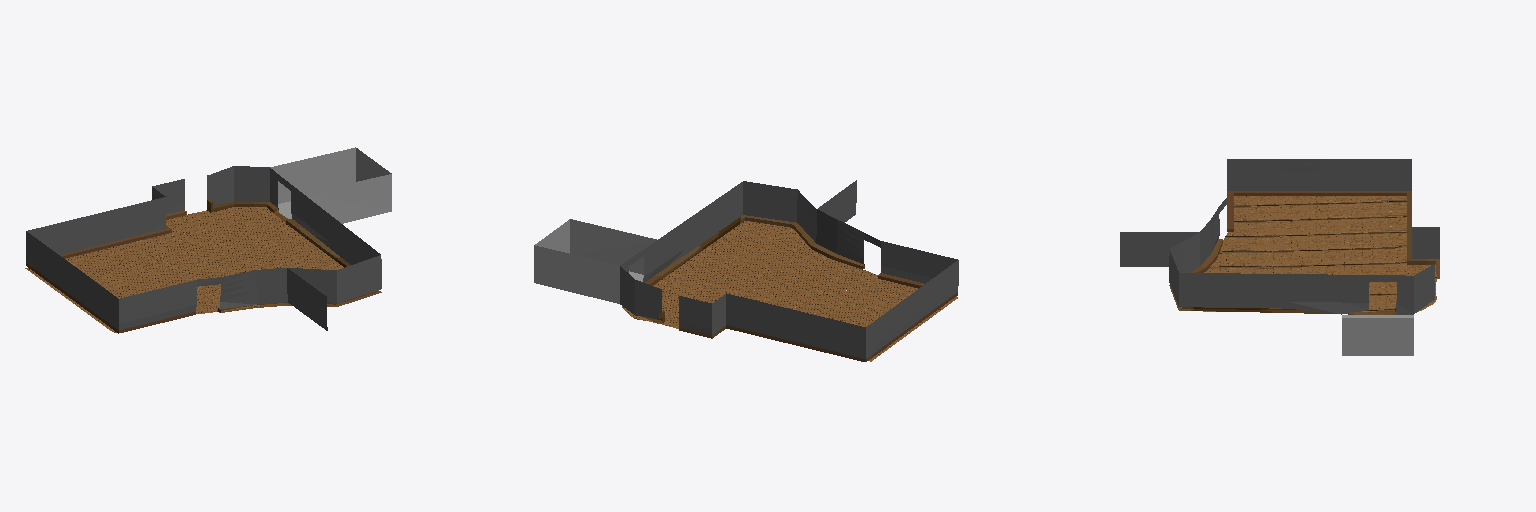
3 views of the same model, side by side, from view 1: azimuth 30°, elevation 25°; view 2: azimuth 150°, elevation 25°; view 3: azimuth 270°, elevation 25° (orthographic).
Parts seen in each view (by area): view 1: polySurface1.002_Untitled.008; view 2: polySurface1.002_Untitled.008; view 3: polySurface1.002_Untitled.008.
Boxes of the visible parts, <box> form: polySurface1.002_Untitled.008: <box>25,147,391,333</box>; polySurface1.002_Untitled.008: <box>534,180,958,361</box>; polySurface1.002_Untitled.008: <box>1120,159,1439,355</box>.
Bounding box in the file's own units: 36.12 × 4.1 × 29.98.
5 materials, 1 textured.